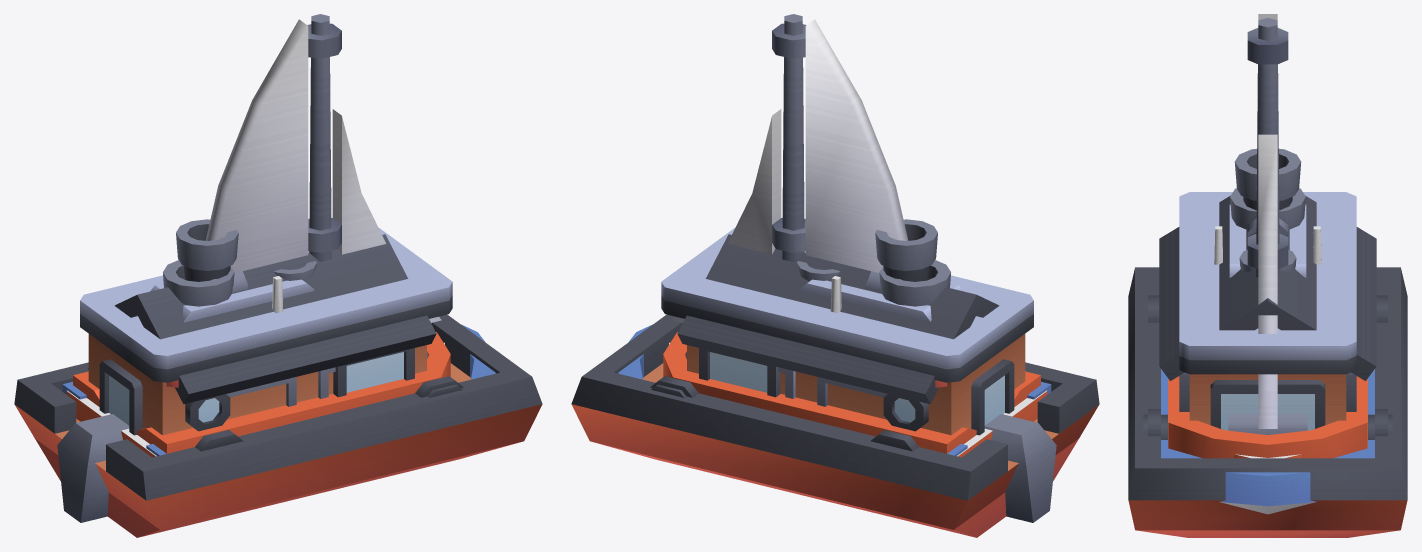
The model's file is boats.glb.
3 renders of one model, left to right at view 1: azimuth 30°, elevation 25°; view 2: azimuth 150°, elevation 25°; view 3: azimuth 270°, elevation 25°, orthographic. The views are drawn at different scales.
Visible parts, largest first — view 1: river-cruise, sail, river-cruise-tall, tug; view 2: river-cruise, sail, river-cruise-tall, tug; view 3: river-cruise, river-cruise-tall, sail, tug, fishing.
Boxes of the visible parts, x1=… form: river-cruise: x1=14, y1=228, x2=542, y2=537; sail: x1=66, y1=14, x2=444, y2=457; river-cruise-tall: x1=57, y1=219, x2=495, y2=522; tug: x1=73, y1=260, x2=450, y2=453; river-cruise: x1=571, y1=228, x2=1099, y2=537; sail: x1=669, y1=14, x2=1047, y2=457; river-cruise-tall: x1=618, y1=219, x2=1056, y2=522; tug: x1=663, y1=260, x2=1040, y2=453; river-cruise: x1=1128, y1=192, x2=1407, y2=537; river-cruise-tall: x1=1143, y1=148, x2=1392, y2=514; sail: x1=1234, y1=14, x2=1301, y2=458; tug: x1=1168, y1=188, x2=1367, y2=458; fishing: x1=1214, y1=226, x2=1321, y2=264.
Bounding box in the file's own units: 1.3 × 1.32 × 0.7208.
Materials: 1 (1 with a texture image).
